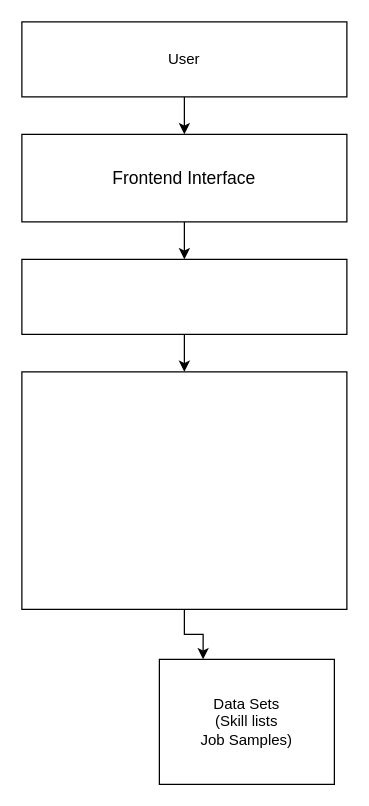
Some shapes in this 369 by 806 pixel diagram are drawn without their labels. The shapes that lost their labels are listed below. From the top down, each one's box as (x1, y1, x2, y2) in pixels, then its label:
(21, 258, 347, 334): Backend API (Fast API)
(21, 371, 347, 609): AI Processing Engine -Skill extraction -Embeddings -Similarity -Match Score
